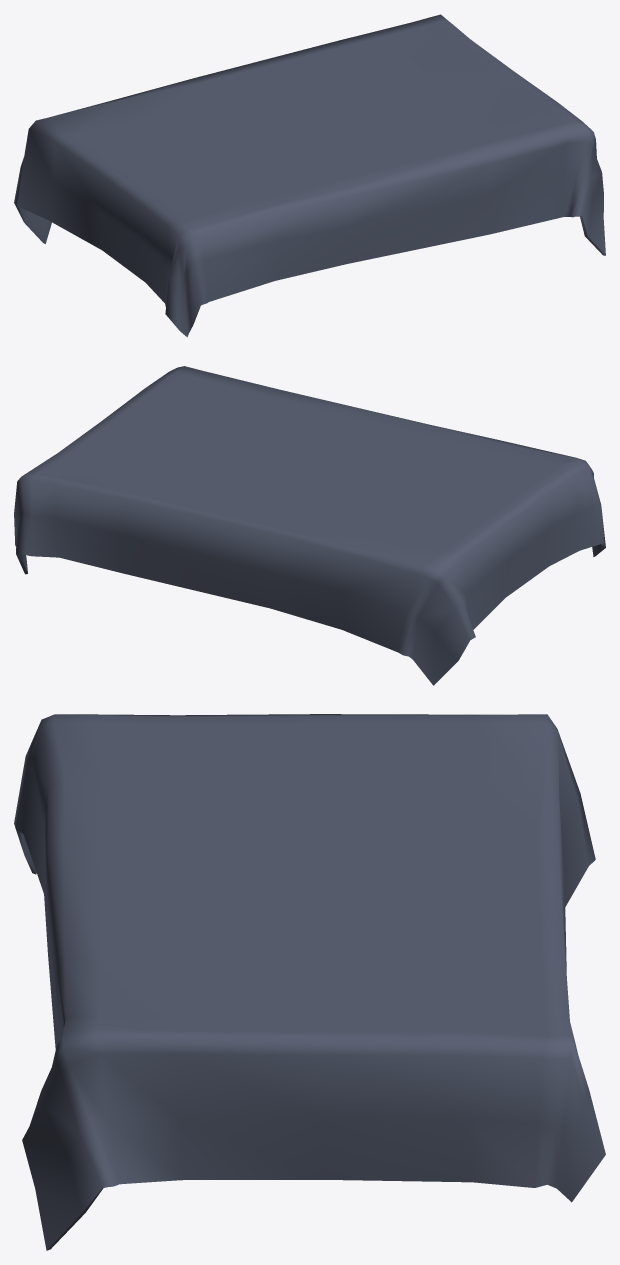
File: DiningTableCloth.FBX
The picture shows the model from 3 angles, top to bottom: view 1: azimuth 30°, elevation 25°; view 2: azimuth 150°, elevation 25°; view 3: azimuth 270°, elevation 25°; orthographic projection. The views are drawn at different scales.
Visible parts, largest first — view 1: TableCloth; view 2: TableCloth; view 3: TableCloth.
Boxes of the visible parts, <box> form: TableCloth: <box>14,14,605,337</box>; TableCloth: <box>14,366,605,685</box>; TableCloth: <box>14,714,605,1250</box>.
Bounding box in the file's own units: 226 × 59.55 × 154.
